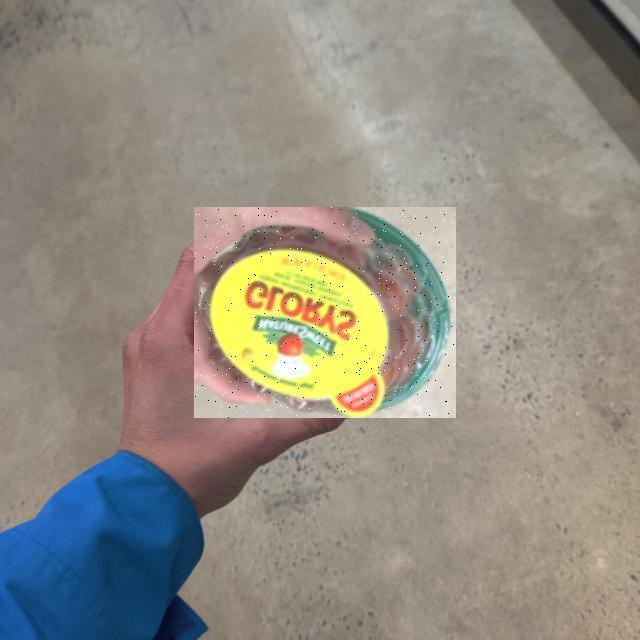tomato: (0, 209, 422, 627)
